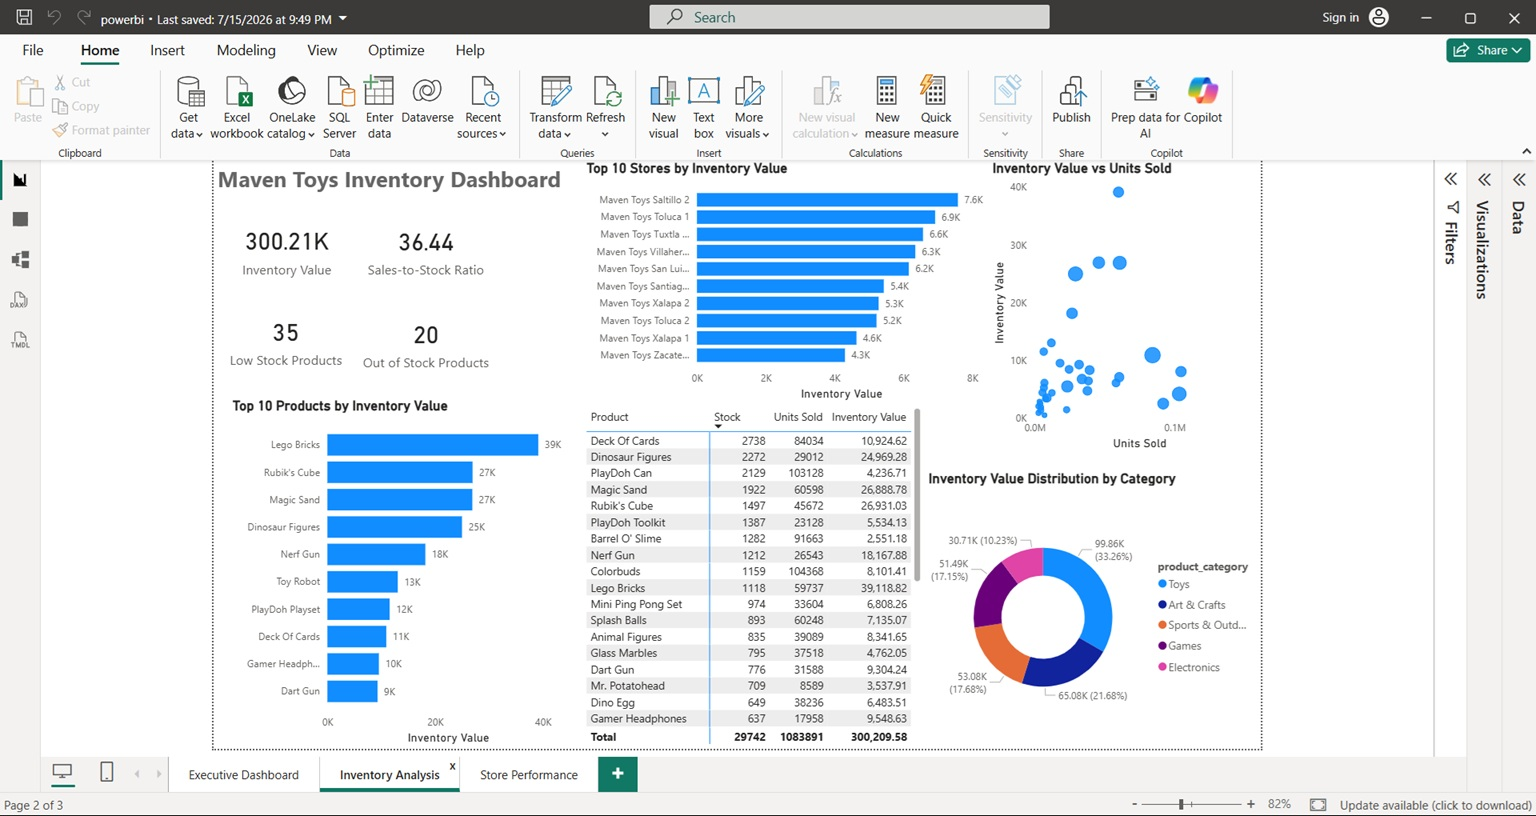

What the dashboard file says about the page in this screenshot:
{"tool":"powerbi","page":{"name":"Inventory Analysis","canvas":[1280,720],"ordinal":1},"visuals":[{"type":"card","fields":{"Values":["00_Measures.Inventory Value"]},"box":[2.4,45.2,174.9,127.2],"z":0},{"type":"barChart","title":"Top 10 Stores by Inventory Value","fields":{"Y":["00_Measures.Inventory Value"],"Category":["public vw_inventory_analysis.store_name"]},"box":[451.2,0,506.2,298.8],"z":1000},{"type":"barChart","title":"Top 10 Products by Inventory Value","fields":{"Y":["00_Measures.Inventory Value"],"Category":["public vw_inventory_analysis.product_name"]},"box":[18.8,290,432.5,430],"z":2000},{"type":"card","fields":{"Values":["00_Measures.Sales-to-Stock Ratio"]},"box":[177.3,51.4,165.1,116.2],"z":3000},{"type":"card","fields":{"Values":["00_Measures.Low Stock Products"]},"box":[1.2,162.6,174.9,114.9],"z":4000},{"type":"card","fields":{"Values":["00_Measures.Out of Stock Products"]},"box":[177.3,167.5,165.1,110.1],"z":5000},{"type":"textbox","box":[0,0,397.9,45.1],"z":6000},{"type":"pivotTable","title":" Product Inventory Performance","fields":{"Rows":["public vw_inventory_analysis.product_name"],"Values":["Sum(public vw_inventory_analysis.stock_on_hand)","Sum(public vw_inventory_analysis.total_units_sold)","00_Measures.Inventory Value"]},"box":[451.2,298.8,418.8,421.2],"z":7000},{"type":"donutChart","title":"Inventory Value Distribution by Category","fields":{"Y":["00_Measures.Inventory Value"],"Category":["public vw_inventory_analysis.product_category"]},"box":[870,378.8,410,341.2],"z":8000},{"type":"scatterChart","title":"Inventory Value vs Units Sold","fields":{"X":["Sum(public vw_inventory_analysis.total_units_sold)"],"Y":["00_Measures.Inventory Value"],"Category":["public vw_inventory_analysis.product_name"],"Size":["Sum(public vw_inventory_analysis.stock_on_hand)"]},"box":[947.5,0,332.5,360],"z":9000}]}

Visuals, with their boxes on the page's 1280x720 design canvas (x1, y1, x2, y2). These are canvas units, not pixel positions in the 1536x816 screenshot, which may show the page scaled, cropped or inside an application window:
card - 00_Measures.Inventory Value: [2,45,177,172]
"Top 10 Stores by Inventory Value" barChart: [451,0,957,299]
"Top 10 Products by Inventory Value" barChart: [19,290,451,720]
card - 00_Measures.Sales-to-Stock Ratio: [177,51,342,168]
card - 00_Measures.Low Stock Products: [1,163,176,278]
card - 00_Measures.Out of Stock Products: [177,168,342,278]
textbox: [0,0,398,45]
" Product Inventory Performance" pivotTable: [451,299,870,720]
"Inventory Value Distribution by Category" donutChart: [870,379,1280,720]
"Inventory Value vs Units Sold" scatterChart: [948,0,1280,360]
